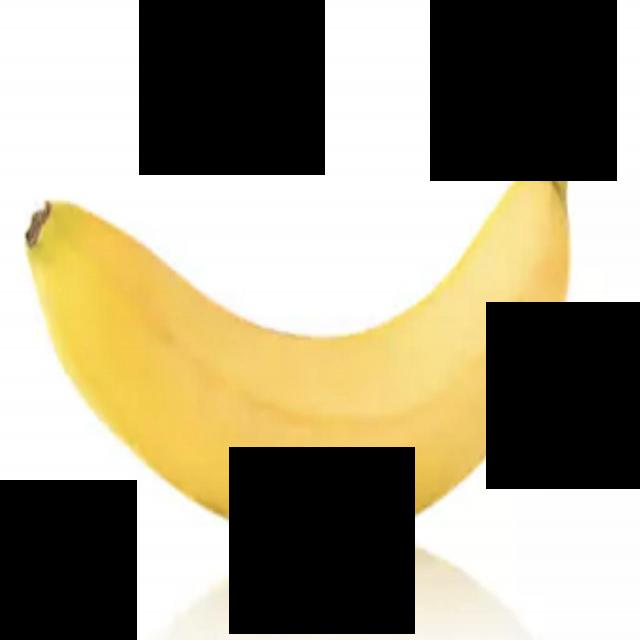banana: (0, 0, 608, 637)
